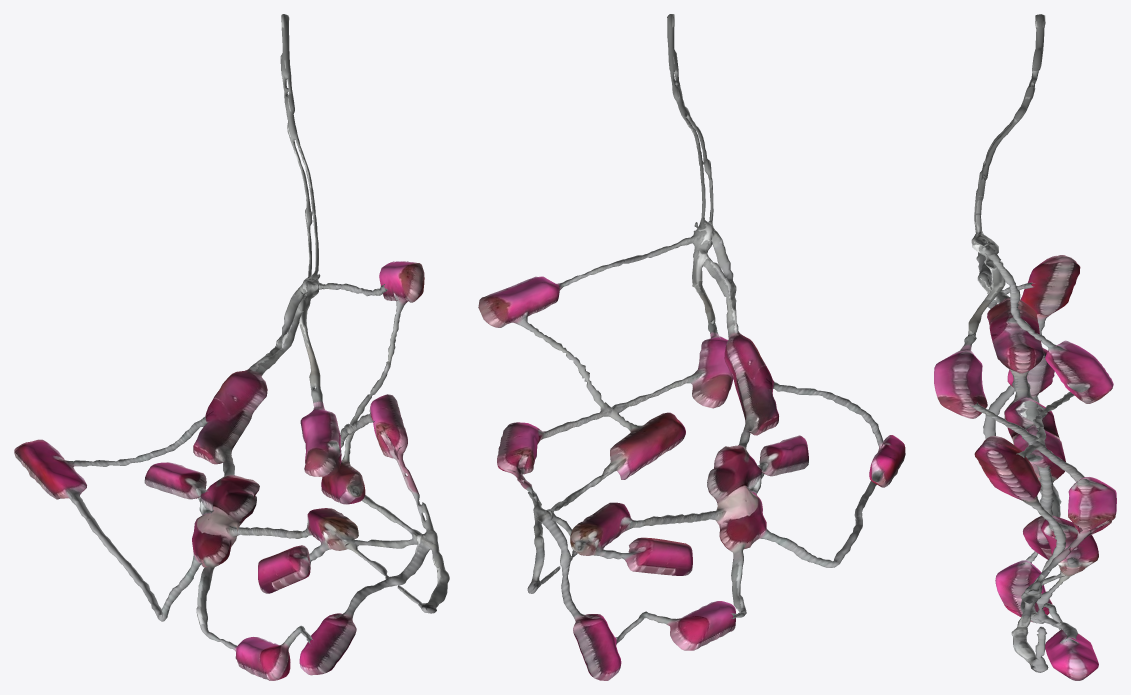
Rendered from hy3d-mov-001.glb.
3 renders of one model, left to right at view 1: azimuth 30°, elevation 25°; view 2: azimuth 150°, elevation 25°; view 3: azimuth 270°, elevation 25°, orthographic. The views are drawn at different scales.
Parts seen in each view (by area): view 1: world; view 2: world; view 3: world.
Part boxes in pixels (x1,y1,x2,y2): world: (14, 14, 449, 680); world: (478, 14, 905, 680); world: (934, 14, 1116, 680).
Bounding box in the file's own units: 1.46 × 2.27 × 0.5867.
Materials: 1 (1 with a texture image).
